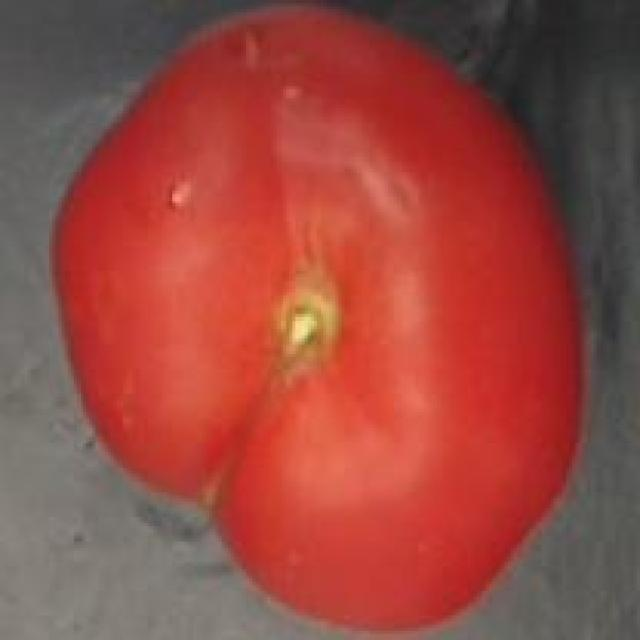overripe tomato: (49, 0, 597, 640)
